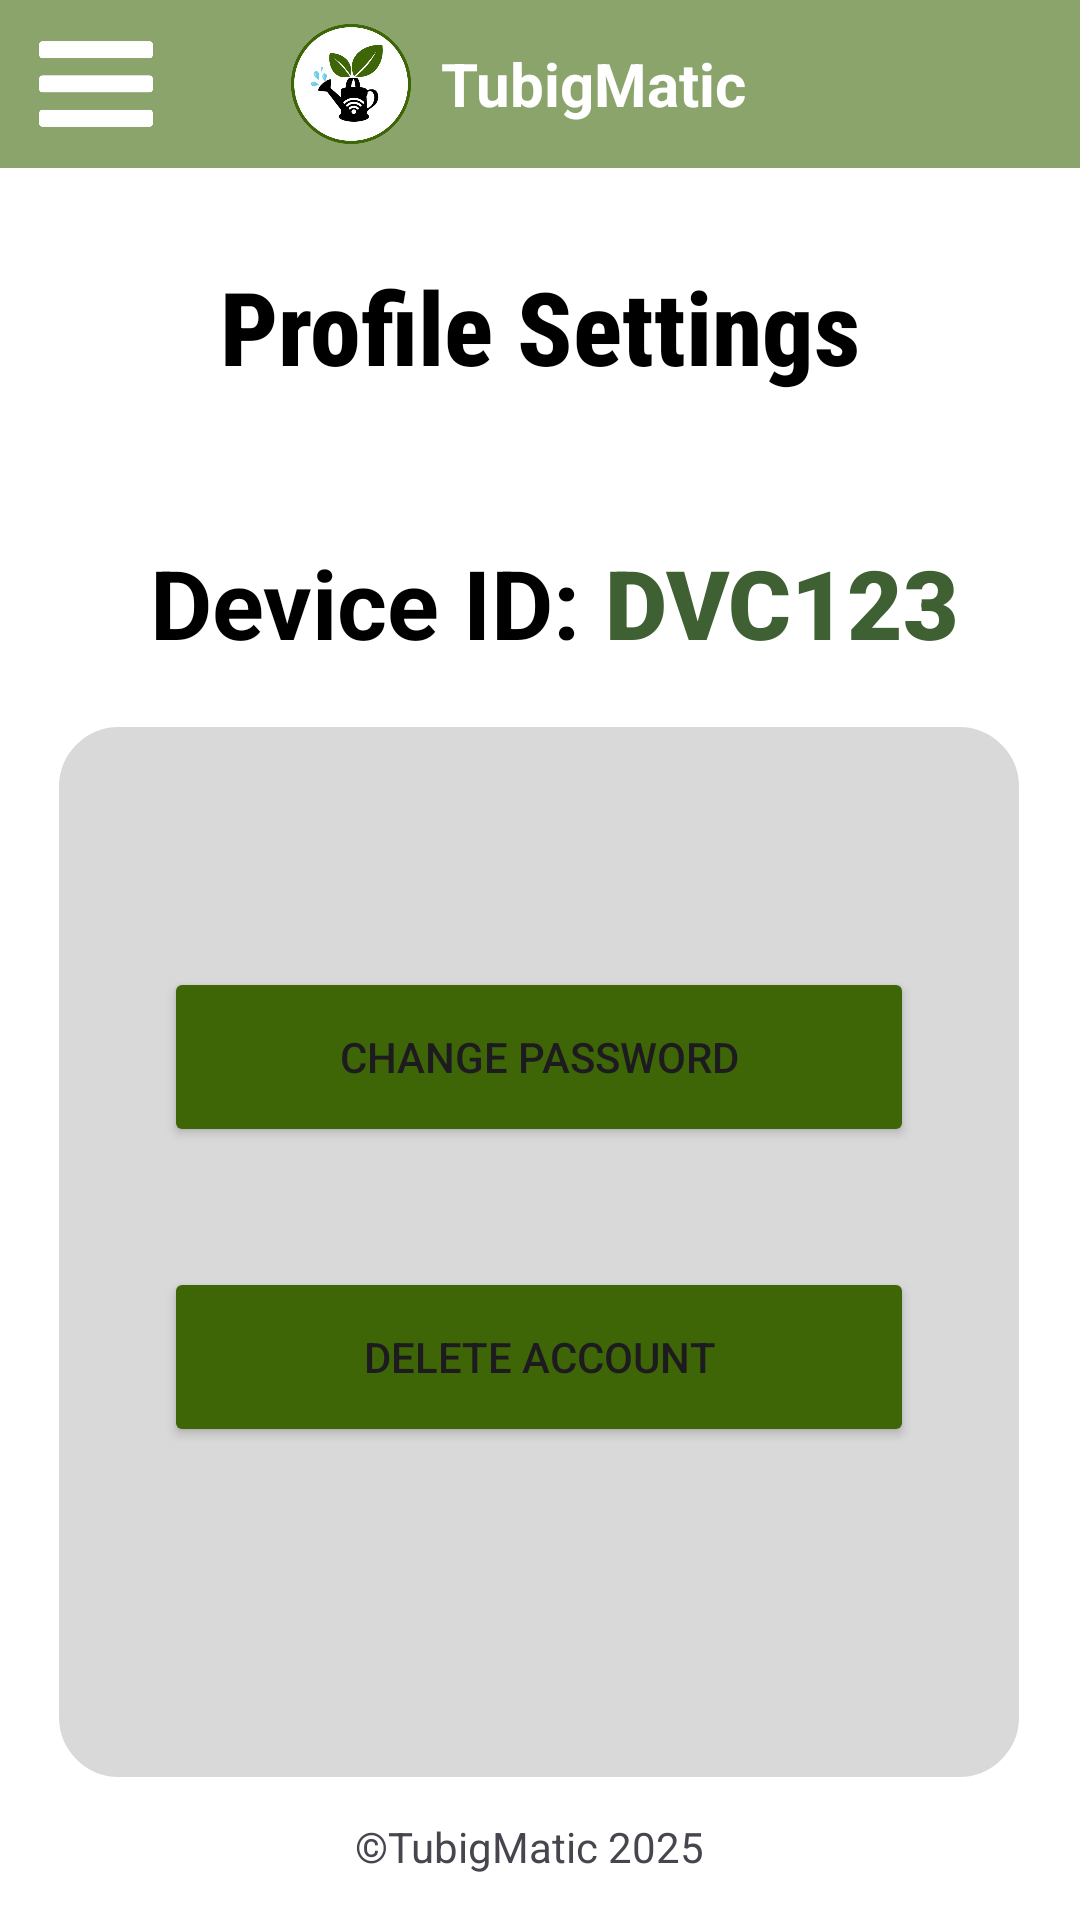

Named icons in this screenshot (1080px×1920px) and their bounding boxes, (x1, y1, x2, y2):
menu: (39, 41, 153, 127)
